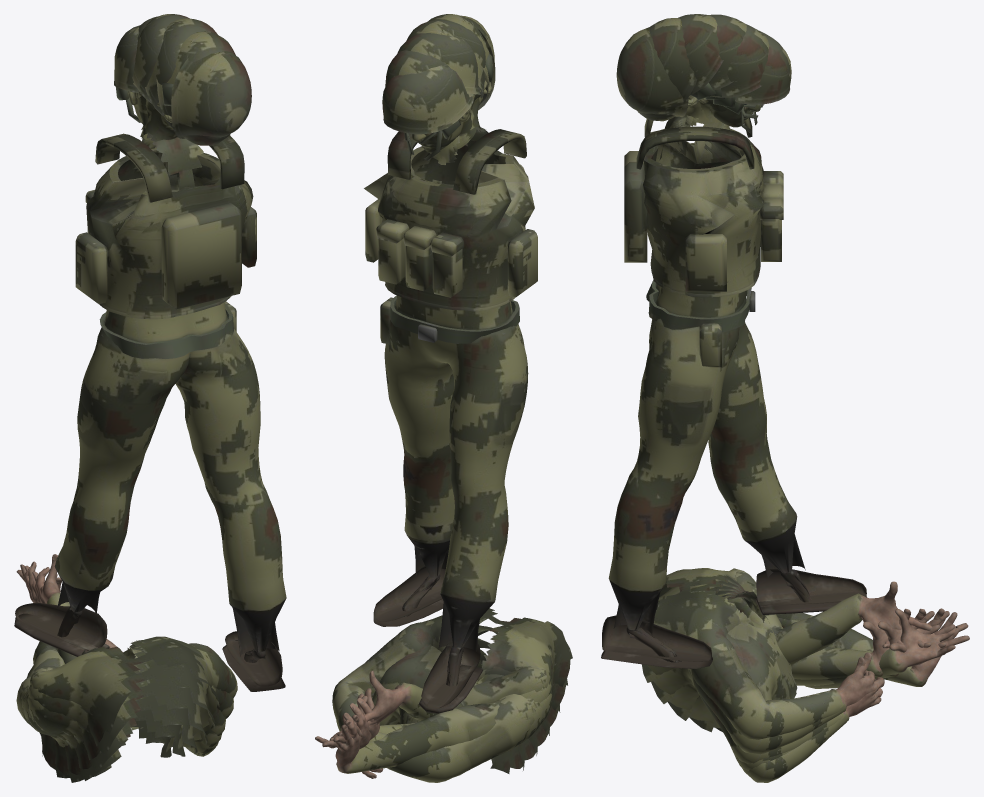
Rendered from crew_verba.glb.
3 renders of one model, left to right at view 1: azimuth 30°, elevation 25°; view 2: azimuth 150°, elevation 25°; view 3: azimuth 270°, elevation 25°, orthographic. The views are drawn at different scales.
Parts seen in each view (by area): view 1: turret|STR_ratnik, ca5|STR_ratnik, th5|STR_ratnik, ca4|STR_ratnik, ca3|STR_ratnik, th0|STR_ratnik, ca2|STR_ratnik, ca1|STR_ratnik, th3|STR_ratnik, th2|STR_ratnik, ca0|STR_ratnik, th4|STR_ratnik; view 2: turret|STR_ratnik, ca5|STR_ratnik, ca0|STR_ratnik, ca1|STR_ratnik, th0|STR_ratnik, th2|STR_ratnik, ca4|STR_ratnik, th3|STR_ratnik, th1|STR_ratnik, ca2|STR_ratnik, th5|STR_ratnik, th4|STR_ratnik (+1 smaller); view 3: turret|STR_ratnik, ca5|STR_ratnik, ca0|STR_ratnik, ca4|STR_ratnik, th5|STR_ratnik, ca3|STR_ratnik, ca1|STR_ratnik, th3|STR_ratnik, th0|STR_ratnik, th1|STR_ratnik, th4|STR_ratnik, ca2|STR_ratnik (+1 smaller).
Part boxes in pixels (x1,y1,x2,y2): turret|STR_ratnik: [14, 133, 286, 691]; ca5|STR_ratnik: [30, 554, 237, 753]; th5|STR_ratnik: [140, 51, 251, 171]; ca4|STR_ratnik: [28, 571, 233, 760]; ca3|STR_ratnik: [27, 572, 225, 771]; th0|STR_ratnik: [114, 25, 203, 174]; ca2|STR_ratnik: [23, 565, 221, 780]; ca1|STR_ratnik: [20, 561, 218, 782]; th3|STR_ratnik: [142, 18, 217, 174]; th2|STR_ratnik: [132, 14, 202, 175]; ca0|STR_ratnik: [16, 566, 215, 778]; th4|STR_ratnik: [141, 31, 235, 174]; turret|STR_ratnik: [364, 129, 537, 713]; ca5|STR_ratnik: [332, 608, 572, 770]; ca0|STR_ratnik: [315, 652, 531, 782]; ca1|STR_ratnik: [335, 652, 537, 778]; th0|STR_ratnik: [382, 65, 488, 161]; th2|STR_ratnik: [397, 33, 487, 162]; ca4|STR_ratnik: [336, 625, 567, 778]; th3|STR_ratnik: [406, 19, 486, 164]; th1|STR_ratnik: [385, 50, 487, 164]; ca2|STR_ratnik: [330, 649, 549, 777]; th5|STR_ratnik: [434, 15, 495, 164]; th4|STR_ratnik: [427, 14, 489, 164]; turret|STR_ratnik: [601, 117, 866, 669]; ca5|STR_ratnik: [647, 568, 931, 739]; ca0|STR_ratnik: [715, 593, 969, 782]; ca4|STR_ratnik: [642, 579, 940, 754]; th5|STR_ratnik: [616, 27, 729, 129]; ca3|STR_ratnik: [651, 584, 938, 763]; ca1|STR_ratnik: [689, 592, 958, 777]; th3|STR_ratnik: [673, 14, 726, 129]; th0|STR_ratnik: [665, 30, 791, 133]; th1|STR_ratnik: [671, 24, 769, 128]; th4|STR_ratnik: [649, 18, 728, 129]; ca2|STR_ratnik: [668, 589, 955, 770].
Bounding box in the file's own units: 0.6315 × 2.18 × 0.9821.
Materials: 13 (13 with a texture image).
